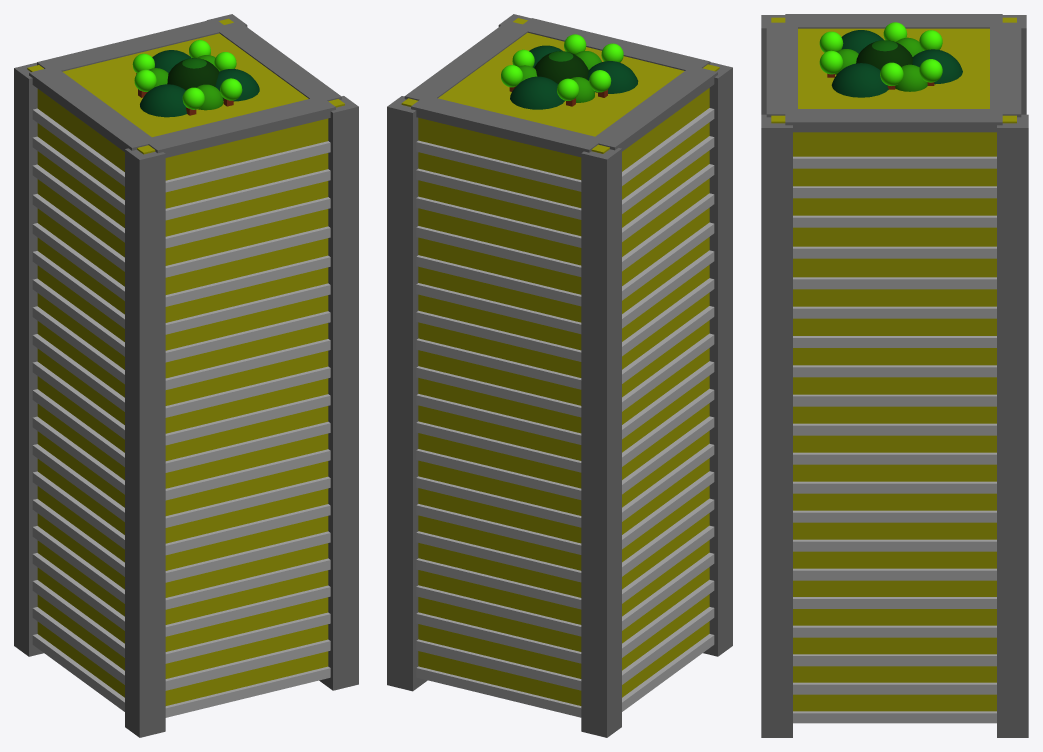
The model's file is MainBuild_Yellow.fbx.
3 views of the same model, side by side, from view 1: azimuth 30°, elevation 25°; view 2: azimuth 150°, elevation 25°; view 3: azimuth 270°, elevation 25° (orthographic). The views are drawn at different scales.
Visible parts, largest first — view 1: pCube1, pasted__pasted__pasted__pasted__pasted__pasted__pasted__past (×31), pasted__pasted__pCube2, pasted__pCube2, pasted__pasted__pasted__pCube2, pasted__pasted__pasted__pCube3 (×2), pasted__pasted__pasted__pasted__pasted__pasted__pasted__pCub (×2), pasted__pasted__pasted__pasted__pasted__pCube3 (×2), pasted__pasted__pasted__pasted__pasted__pasted__pCube3 (×2), pasted__pasted__pasted__pasted__pCube3 (×2), pCube3, pasted__pCube3 (+4 smaller); view 2: pCube1, pasted__pasted__pasted__pasted__pasted__pasted__pasted__past (×30), pasted__pasted__pasted__pCube2, pCube2, pasted__pasted__pCube2, pasted__pasted__pasted__pasted__pCube3 (×2), pasted__pasted__pCube3 (×2), pasted__pasted__pasted__pasted__pasted__pasted__pCube3 (×2), pasted__pasted__pasted__pasted__pasted__pasted__pasted__pCub (×2), pasted__pasted__pasted__pCube3 (×2), pasted__pasted__pasted__pasted__pasted__pCube3 (×2), pCube3 (+4 smaller); view 3: pCube1, pasted__pasted__pasted__pasted__pasted__pasted__pasted__past (×20), pCube2, pasted__pCube2, pasted__pCube3, pasted__pasted__pCube3, pasted__pasted__pasted__pCube3, pasted__pasted__pasted__pasted__pCube3, pasted__pasted__pasted__pasted__pasted__pasted__pCube3, pasted__pasted__pasted__pasted__pasted__pasted__pasted__pCub, pasted__pasted__pasted__pasted__pasted__pCube3, pasted__pasted__pasted__pasted__pasted__pSphere1 (+5 smaller).
Part boxes in pixels (x1,y1,x2,y2): pCube1: (27, 18, 344, 705); pasted__pasted__pasted__pasted__pasted__pasted__pasted__past (×31): (29, 19, 341, 582); pasted__pasted__pCube2: (125, 148, 165, 737); pasted__pCube2: (319, 96, 358, 690); pasted__pasted__pasted__pCube2: (14, 62, 43, 656); pasted__pasted__pasted__pCube3 (×2): (32, 553, 330, 717); pasted__pasted__pasted__pasted__pasted__pasted__pasted__pCub (×2): (32, 444, 330, 609); pasted__pasted__pasted__pasted__pasted__pCube3 (×2): (32, 499, 330, 663); pasted__pasted__pasted__pasted__pasted__pasted__pCube3 (×2): (32, 471, 330, 636); pasted__pasted__pasted__pasted__pCube3 (×2): (32, 526, 330, 690); pCube3: (32, 634, 124, 711); pasted__pCube3: (32, 607, 124, 684); pCube1: (401, 18, 719, 705); pasted__pasted__pasted__pasted__pasted__pasted__pasted__past (×30): (404, 18, 717, 554); pasted__pasted__pasted__pCube2: (581, 148, 621, 737); pCube2: (387, 96, 427, 691); pasted__pasted__pCube2: (703, 62, 732, 656); pasted__pasted__pasted__pasted__pCube3 (×2): (416, 525, 714, 663); pasted__pasted__pCube3 (×2): (416, 579, 714, 717); pasted__pasted__pasted__pasted__pasted__pasted__pCube3 (×2): (416, 471, 714, 609); pasted__pasted__pasted__pasted__pasted__pasted__pasted__pCub (×2): (416, 443, 714, 582); pasted__pasted__pasted__pCube3 (×2): (416, 552, 714, 690); pasted__pasted__pasted__pasted__pasted__pCube3 (×2): (416, 498, 714, 636); pCube3: (622, 634, 714, 711); pCube1: (771, 17, 1016, 711); pasted__pasted__pasted__pasted__pasted__pasted__pasted__past (×20): (766, 14, 1021, 522); pCube2: (997, 114, 1028, 737); pasted__pCube2: (761, 114, 792, 737); pasted__pCube3: (793, 711, 996, 723); pasted__pasted__pCube3: (793, 682, 996, 694); pasted__pasted__pasted__pCube3: (793, 654, 996, 666); pasted__pasted__pasted__pasted__pCube3: (793, 625, 996, 637); pasted__pasted__pasted__pasted__pasted__pasted__pCube3: (793, 568, 996, 580); pasted__pasted__pasted__pasted__pasted__pasted__pasted__pCub: (793, 539, 996, 551); pasted__pasted__pasted__pasted__pasted__pCube3: (793, 597, 996, 608); pasted__pasted__pasted__pasted__pasted__pSphere1: (831, 63, 888, 97).
Bounding box in the file's own units: 8.48 × 22.45 × 8.49.
